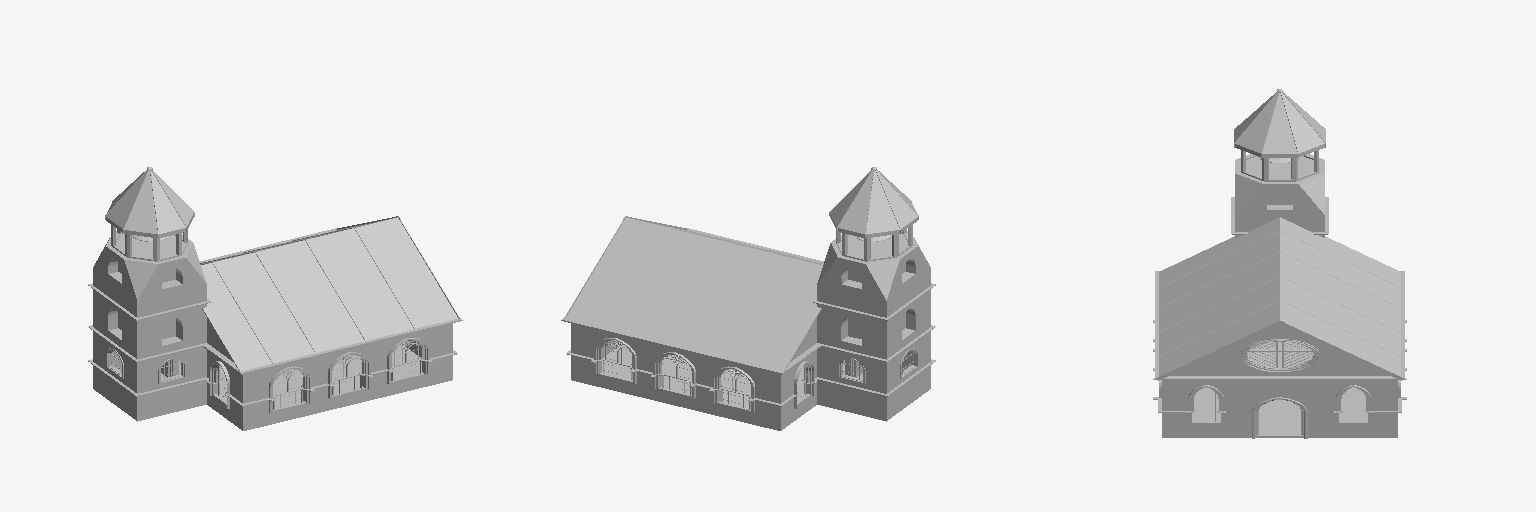
The model's file is smallchurch.obj.
The picture shows the model from 3 angles: view 1: azimuth 30°, elevation 25°; view 2: azimuth 150°, elevation 25°; view 3: azimuth 270°, elevation 25°; orthographic projection.
Parts seen in each view (by area): view 1: church_asset; view 2: church_asset; view 3: church_asset.
Boxes of the visible parts, x1,y1,x2,y2 form: church_asset: [88, 167, 462, 430]; church_asset: [561, 167, 935, 430]; church_asset: [1153, 89, 1406, 438].
Size of the model in its own units: 39.38 by 30 by 30.